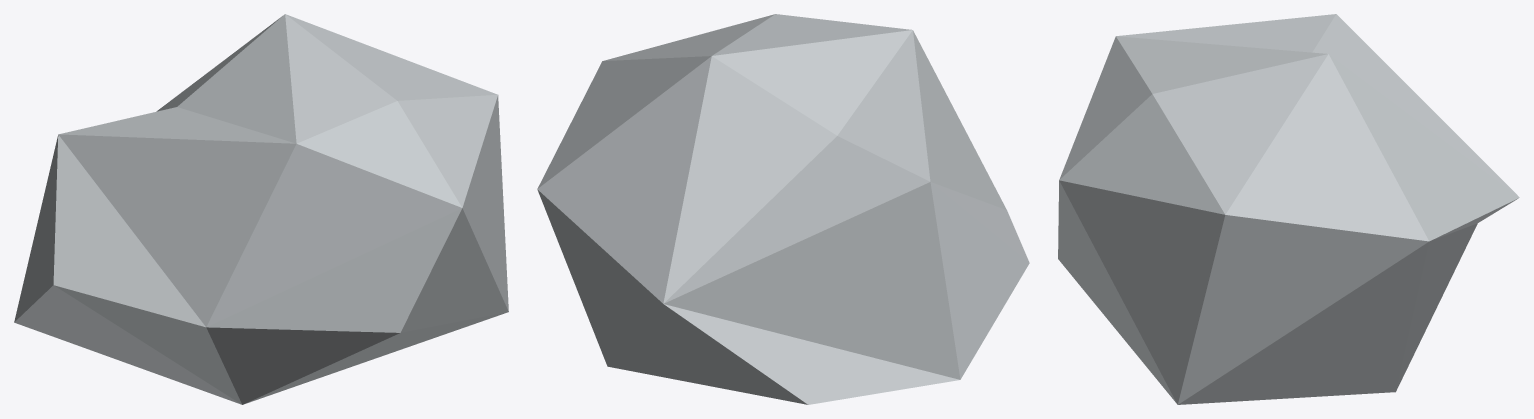
Rendered from MAKONIS_001.FBX.
The picture shows the model from 3 angles, left to right: view 1: azimuth 30°, elevation 25°; view 2: azimuth 150°, elevation 25°; view 3: azimuth 270°, elevation 25°; orthographic projection.
Visible parts, largest first — view 1: MAKONIS_001; view 2: MAKONIS_001; view 3: MAKONIS_001.
Part boxes in pixels (x1,y1,x2,y2): MAKONIS_001: [14, 14, 508, 404]; MAKONIS_001: [537, 14, 1029, 404]; MAKONIS_001: [1058, 14, 1519, 404].
Bounding box in the file's own units: 10691 × 7113 × 9807.
Materials: 1 (1 with a texture image).
